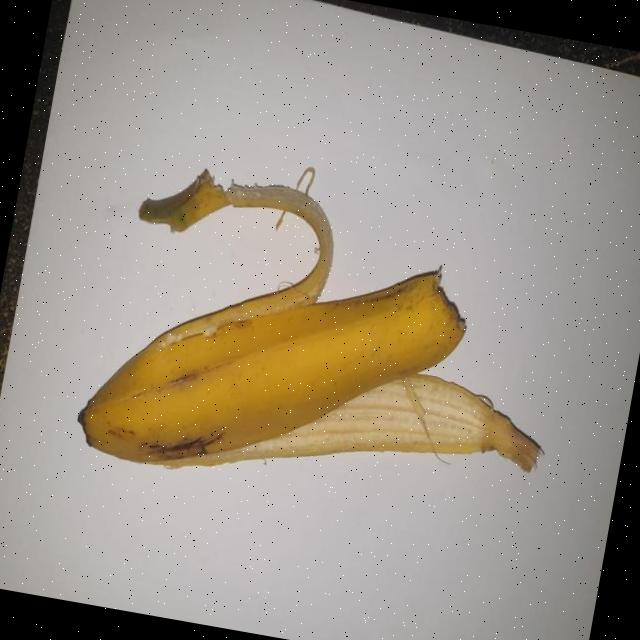banana-peel: (70, 145, 582, 532)
